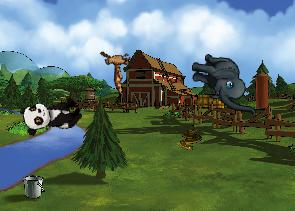eagle: (88, 38, 146, 97)
elephant: (186, 52, 262, 116)
panda: (19, 93, 84, 137)
